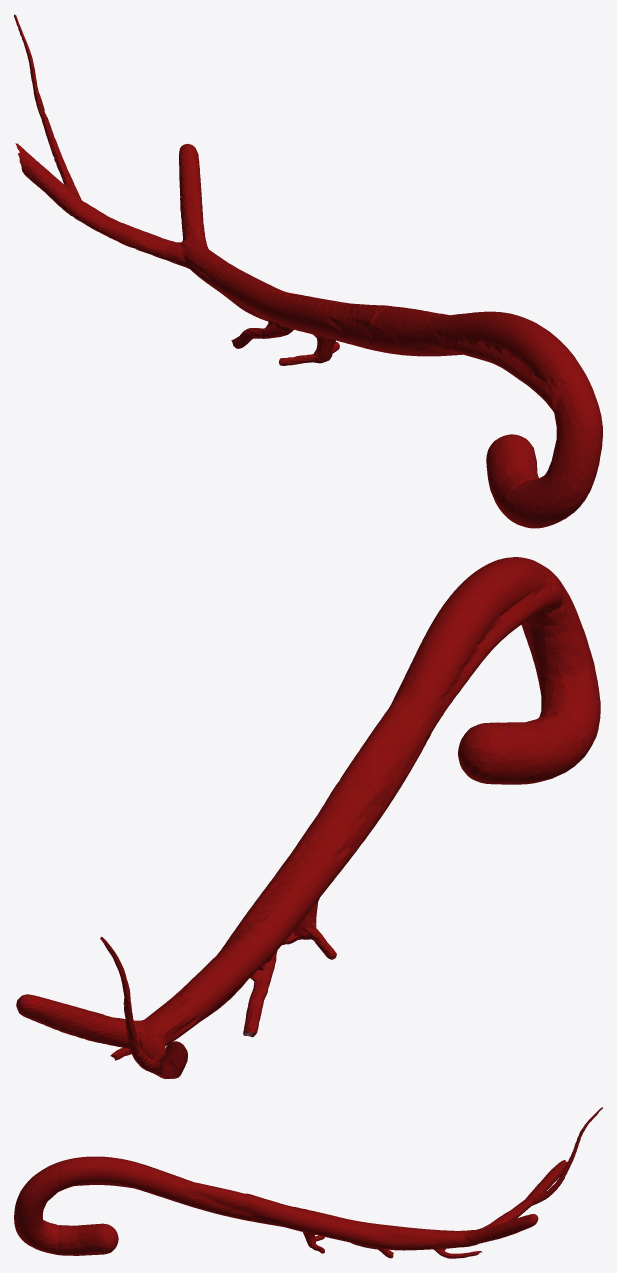
File: SubTool-1-8327814.OBJ
3 renders of one model, top to bottom at view 1: azimuth 30°, elevation 25°; view 2: azimuth 150°, elevation 25°; view 3: azimuth 270°, elevation 25°, orthographic. The views are drawn at different scales.
Visible parts, largest first — view 1: ZBrush_defualt_group; view 2: ZBrush_defualt_group; view 3: ZBrush_defualt_group.
Boxes of the visible parts, x1,y1,x2,y2 form: ZBrush_defualt_group: [14, 14, 602, 528]; ZBrush_defualt_group: [16, 557, 600, 1078]; ZBrush_defualt_group: [14, 1107, 602, 1258].
Bounding box in the file's own units: 88.79 × 118 × 467.
Materials: 1 (1 with a texture image).
